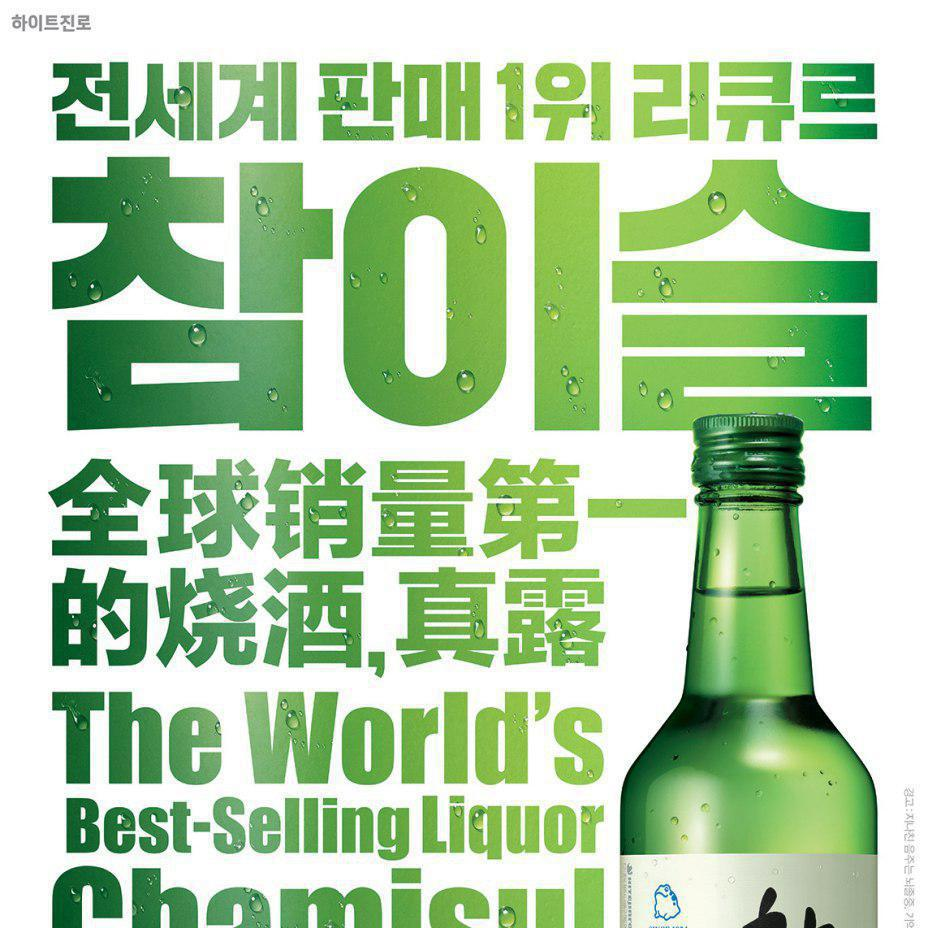soju: (614, 402, 883, 928)
